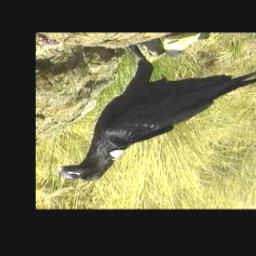Crow: (57, 42, 256, 183)
